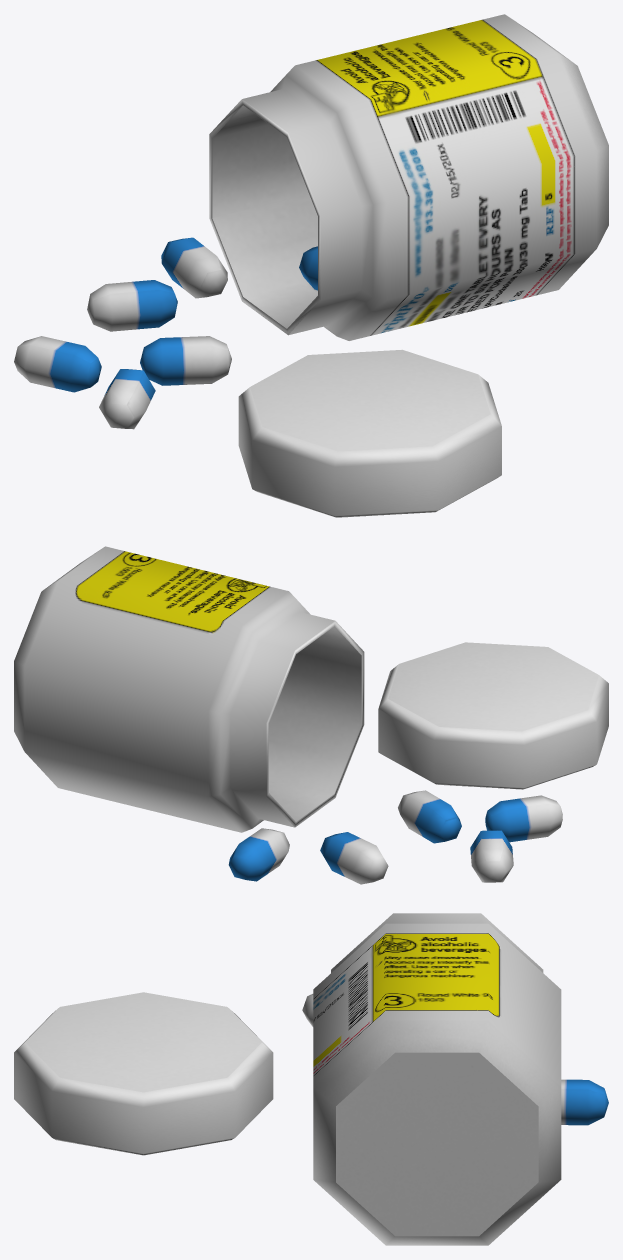
Rendered from pillContainerOpen.fbx.
3 views of the same model, one above another, from view 1: azimuth 30°, elevation 25°; view 2: azimuth 150°, elevation 25°; view 3: azimuth 270°, elevation 25° (orthographic). The views are drawn at different scales.
Visible parts, largest first — view 1: pillContainerOpen; view 2: pillContainerOpen; view 3: pillContainerOpen.
Part boxes in pixels (x1,y1,x2,y2): pillContainerOpen: [14, 14, 608, 517]; pillContainerOpen: [14, 546, 608, 884]; pillContainerOpen: [14, 913, 608, 1245].
Size of the model in its own units: 0.1958 by 0.0857 by 0.202.
